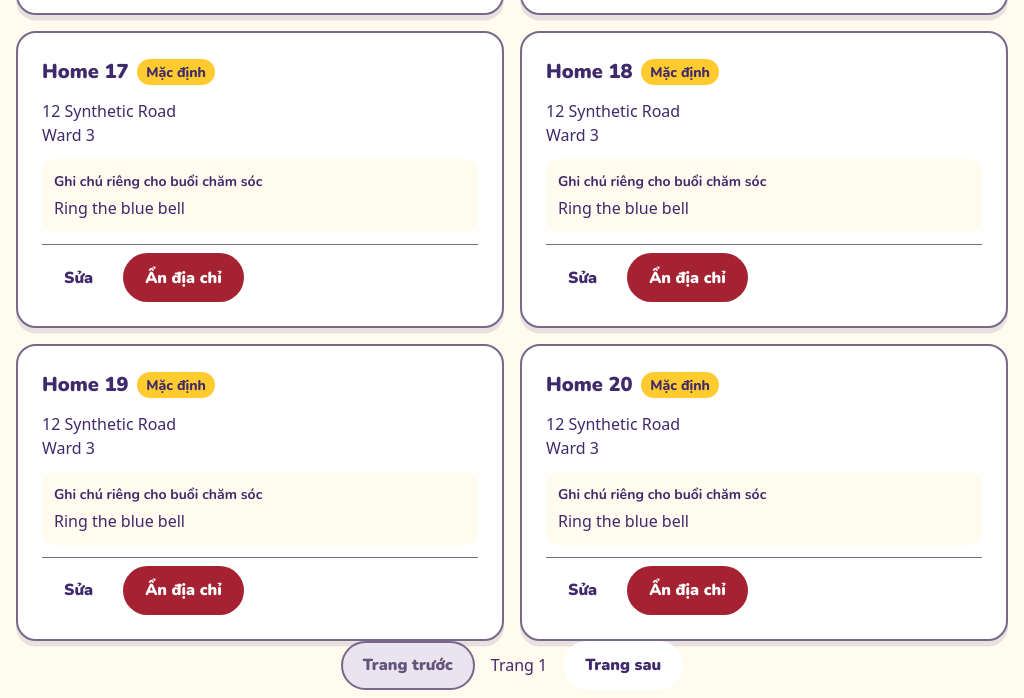
loads customer-only address details and uses bounded cursor navigation
(page scrolled)
Click the button "Trang sau": coordinates (623, 665) [563, 641, 683, 690]
(page scrolled)
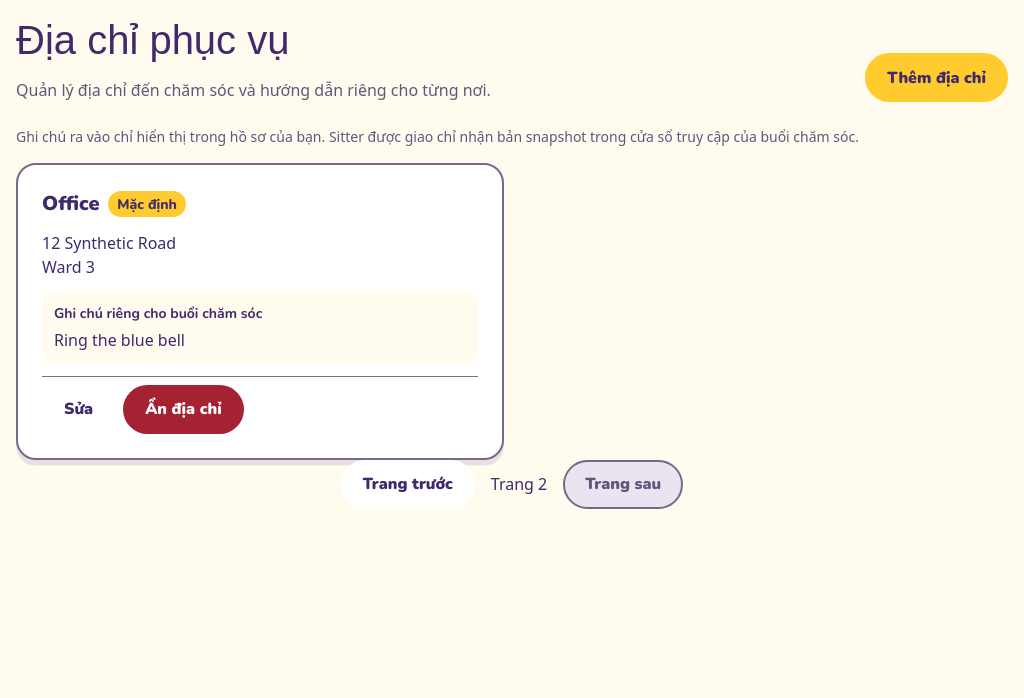
Expected: the text "Office" is shown, [42, 189, 100, 219]
Click the button "Trang trước": coordinates (408, 484) [341, 460, 475, 509]
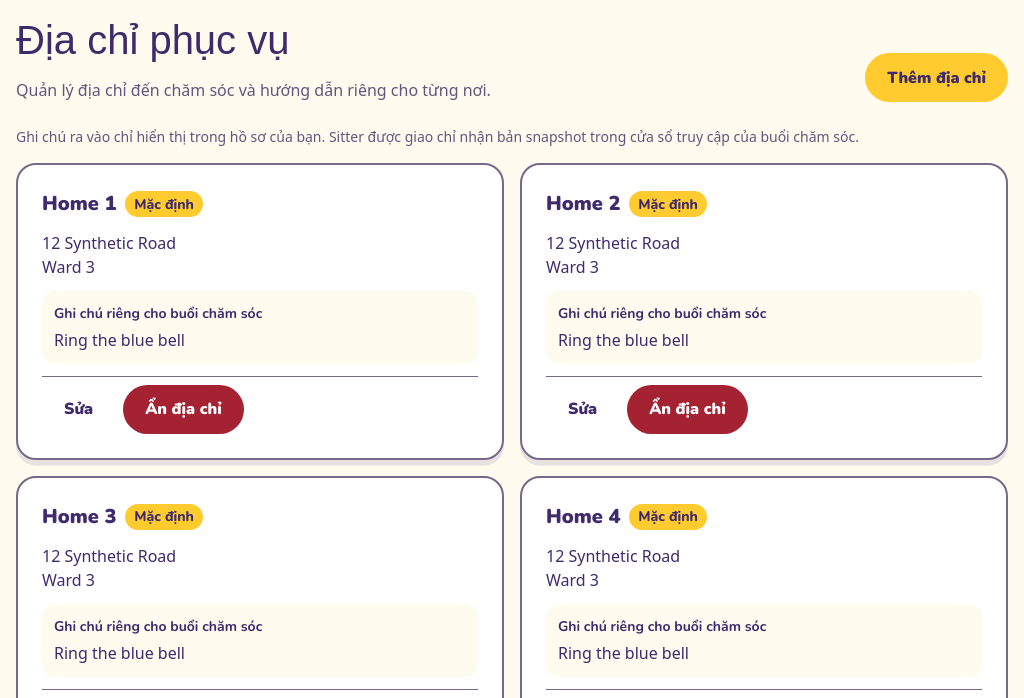
Expected: the text "Home 1" is shown, [42, 189, 117, 219]
